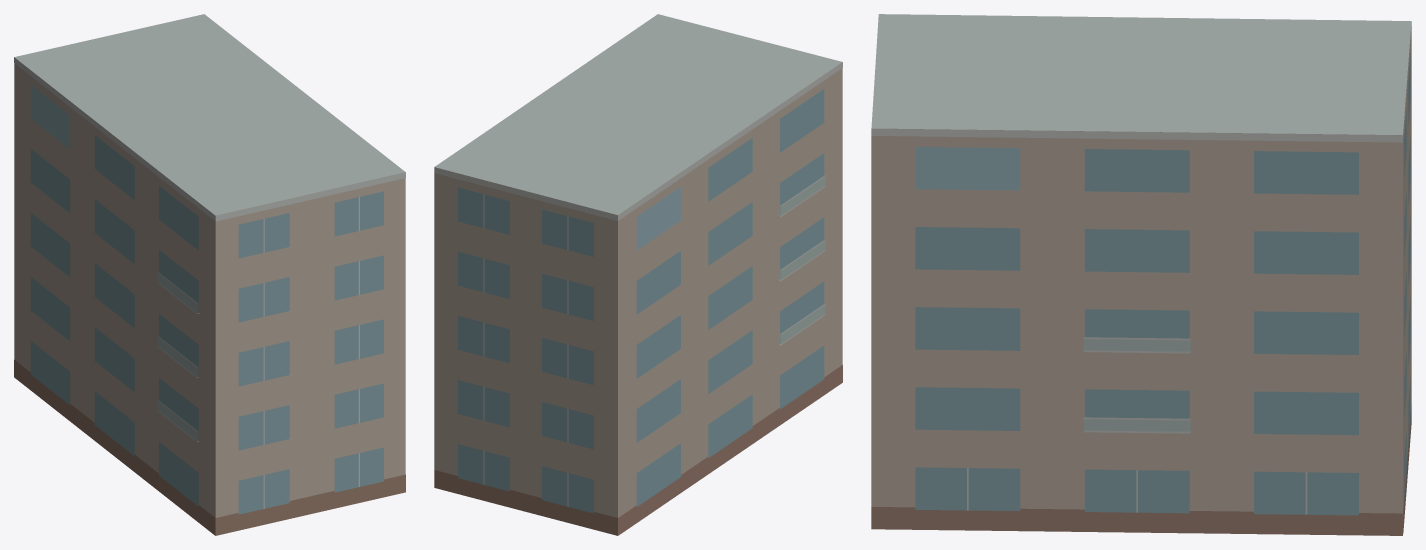
Rendered from survey-upis-32975510.glb.
3 renders of one model, left to right at view 1: azimuth 30°, elevation 25°; view 2: azimuth 150°, elevation 25°; view 3: azimuth 270°, elevation 25°, orthographic. The views are drawn at different scales.
Visible parts, largest first — view 1: survey-upis-32975510.tmp; view 2: survey-upis-32975510.tmp; view 3: survey-upis-32975510.tmp.
Part boxes in pixels (x1=…): survey-upis-32975510.tmp: x1=14, y1=14, x2=405, y2=535; survey-upis-32975510.tmp: x1=434, y1=14, x2=842, y2=535; survey-upis-32975510.tmp: x1=871, y1=14, x2=1411, y2=535.
Size of the model in its own units: 8.57 by 13.2 by 16.14.
